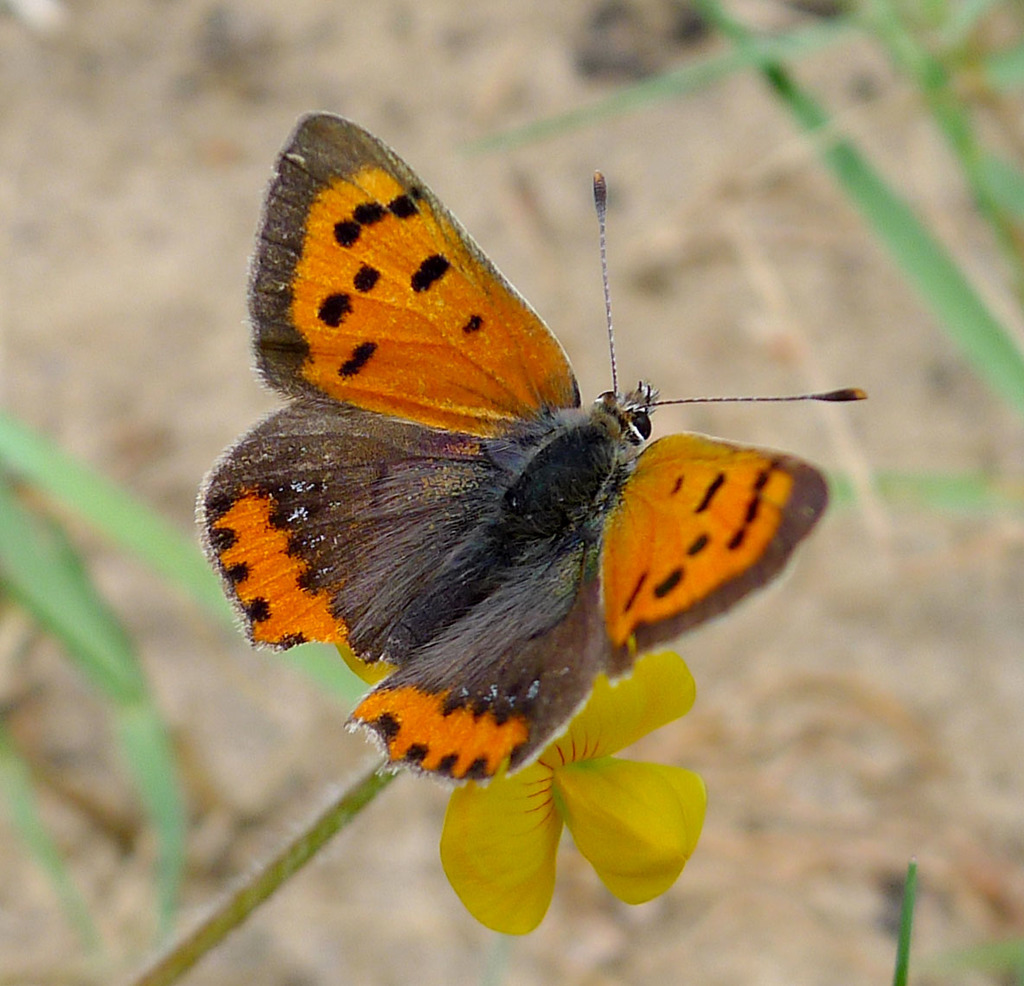Butterfly: (195, 96, 840, 812)
